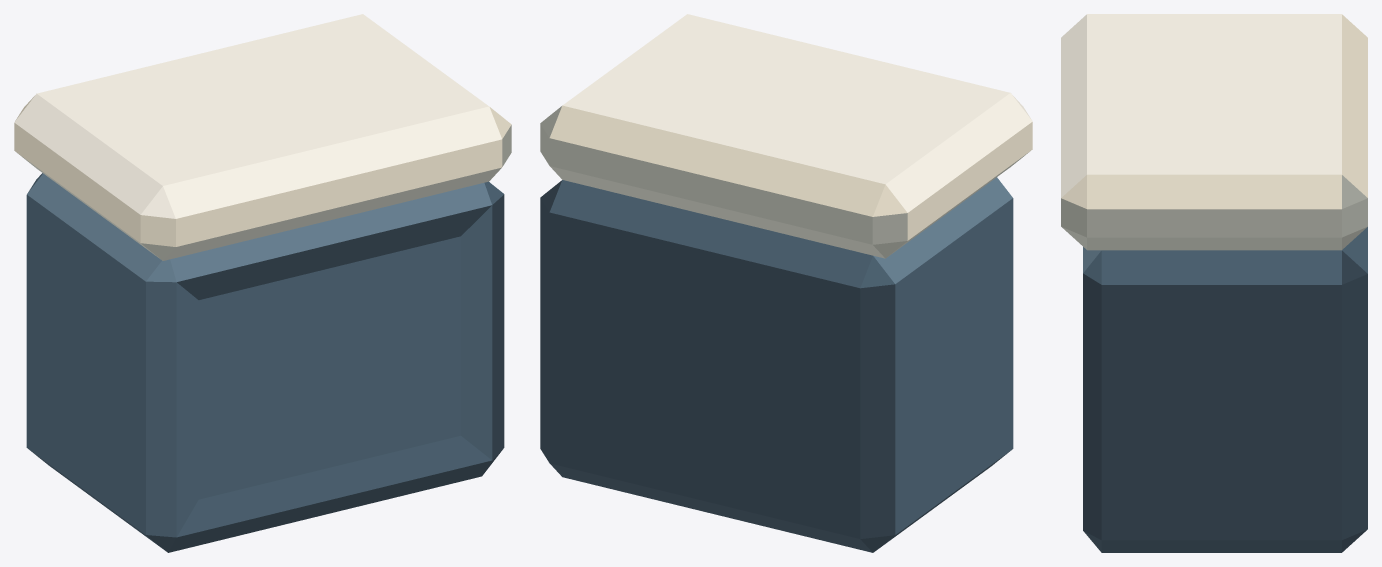
The model's file is Terrain_TopRun1L.gltf.
The picture shows the model from 3 angles, left to right: view 1: azimuth 30°, elevation 25°; view 2: azimuth 150°, elevation 25°; view 3: azimuth 270°, elevation 25°; orthographic projection.
Visible parts, largest first — view 1: Terrain_TopRun1L_baked; view 2: Terrain_TopRun1L_baked; view 3: Terrain_TopRun1L_baked.
Boxes of the visible parts, box(x1,y1,x2,y2) form: Terrain_TopRun1L_baked: box(14, 14, 511, 552); Terrain_TopRun1L_baked: box(540, 14, 1032, 552); Terrain_TopRun1L_baked: box(1061, 14, 1367, 552).
Bounding box in the file's own units: 1.04 × 1 × 0.735.
